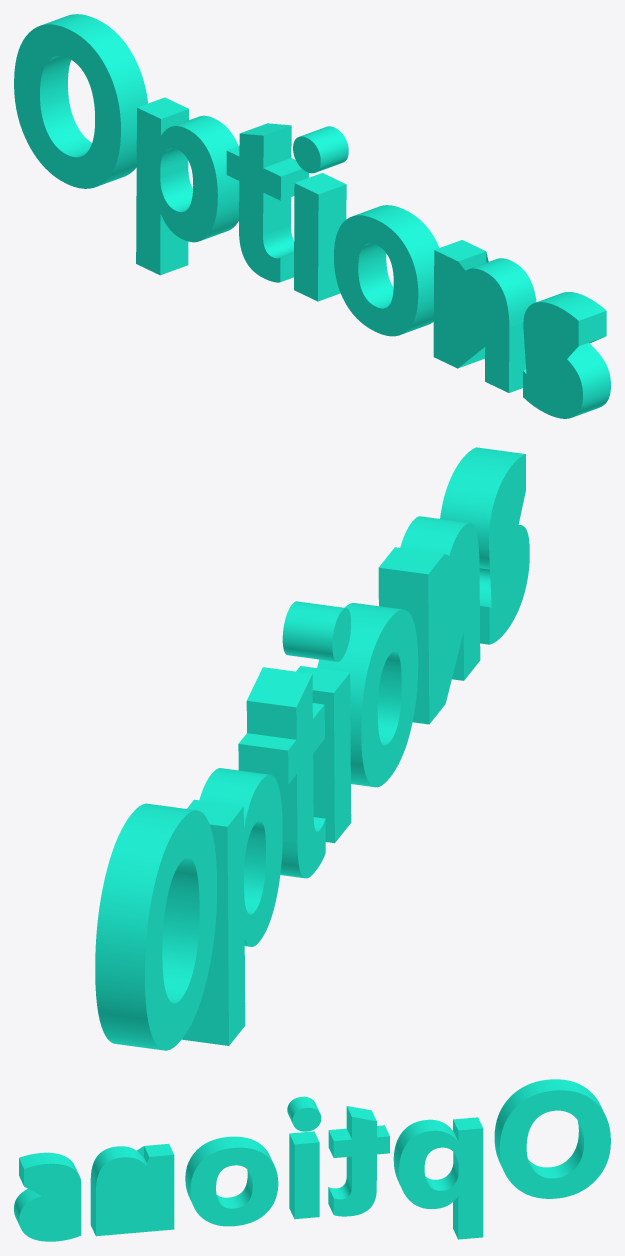
The model's file is options_menu.fbx.
3 views of the same model, one above another, from view 1: azimuth 30°, elevation 25°; view 2: azimuth 150°, elevation 25°; view 3: azimuth 270°, elevation 25° (orthographic). The views are drawn at different scales.
Parts seen in each view (by area): view 1: Cap_1, Cap_1_2, O, Cap_1_6, p, Cap_1_5, Cap_1_7, o, Cap_1_3, t, i, n (+2 smaller); view 2: O, Cap_1, p, Cap_1_2, t, Cap_1_6, n, i, o, Cap_1_5, Cap_1_7, s (+2 smaller); view 3: Cap_2, Cap_2_6, Cap_2_2, Cap_2_5, Cap_2_7, Cap_2_3, Cap_2_4, O, p, o, t, n (+2 smaller).
Part boxes in pixels (bbox=[...]): Cap_1: bbox=[14, 24, 120, 188]; Cap_1_2: bbox=[136, 107, 217, 274]; O: bbox=[40, 14, 147, 185]; Cap_1_6: bbox=[433, 250, 509, 392]; p: bbox=[137, 97, 239, 275]; Cap_1_5: bbox=[334, 215, 418, 336]; Cap_1_7: bbox=[523, 302, 582, 418]; o: bbox=[354, 205, 439, 333]; Cap_1_3: bbox=[226, 133, 280, 282]; t: bbox=[227, 123, 308, 282]; i: bbox=[295, 126, 348, 301]; n: bbox=[435, 240, 536, 392]; O: bbox=[95, 803, 199, 1050]; Cap_1: bbox=[145, 810, 216, 1050]; p: bbox=[182, 768, 268, 1045]; Cap_1_2: bbox=[227, 774, 282, 1045]; t: bbox=[238, 667, 325, 878]; Cap_1_6: bbox=[428, 523, 480, 723]; n: bbox=[378, 516, 468, 724]; i: bbox=[282, 601, 349, 843]; o: bbox=[317, 603, 402, 786]; Cap_1_5: bbox=[361, 609, 418, 787]; Cap_1_7: bbox=[489, 454, 529, 644]; s: bbox=[440, 447, 525, 644]; Cap_2: bbox=[499, 1090, 610, 1198]; Cap_2_6: bbox=[96, 1155, 174, 1236]; Cap_2_2: bbox=[399, 1128, 483, 1239]; Cap_2_5: bbox=[190, 1147, 278, 1226]; Cap_2_7: bbox=[19, 1163, 81, 1241]; Cap_2_3: bbox=[333, 1117, 389, 1216]; Cap_2_4: bbox=[292, 1107, 321, 1219]; O: bbox=[494, 1079, 603, 1178]; p: bbox=[393, 1117, 482, 1239]; o: bbox=[185, 1136, 273, 1208]; t: bbox=[328, 1106, 389, 1214]; n: bbox=[90, 1144, 173, 1235].
Size of the model in its own units: 210 by 232 by 866.
